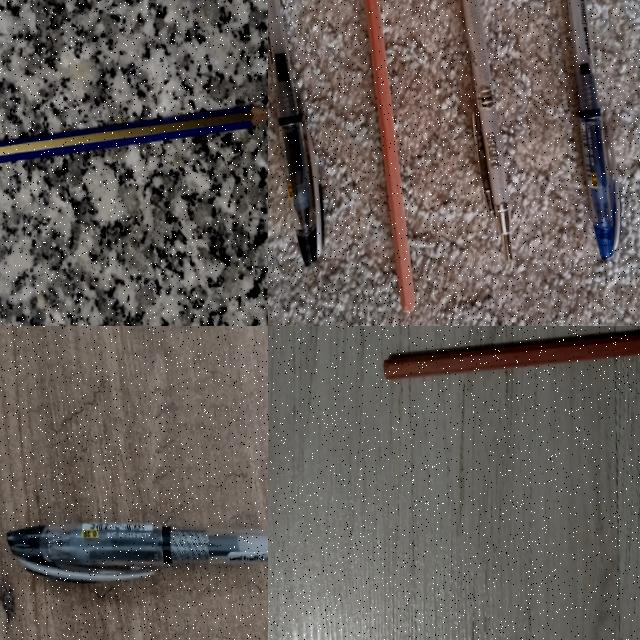4: (462, 0, 512, 260)
pen: (553, 0, 627, 267), (7, 523, 267, 582), (268, 0, 322, 266)
pencil: (364, 0, 414, 310), (0, 107, 267, 162), (383, 334, 639, 379)
signature pen: (462, 0, 512, 260)
